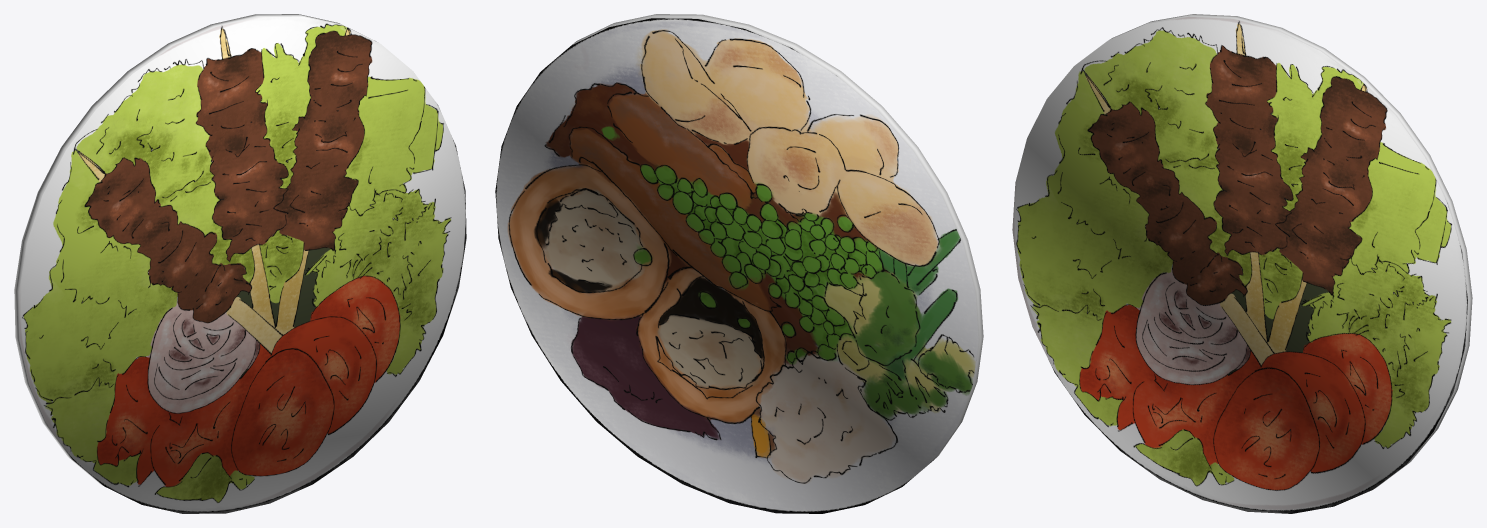
3 views of the same model, side by side, from view 1: azimuth 30°, elevation 25°; view 2: azimuth 150°, elevation 25°; view 3: azimuth 330°, elevation 25° (orthographic). The views are drawn at different scales.
Visible parts, largest first — view 1: plate 5; view 2: plate 5; view 3: plate 5.
Part boxes in pixels (x1,y1,x2,y2): plate 5: [14, 14, 466, 513]; plate 5: [495, 14, 983, 513]; plate 5: [1012, 14, 1472, 513].
Bounding box in the file's own units: 1.99 × 1.99 × 0.1927.
Materials: 3 (2 with a texture image).
